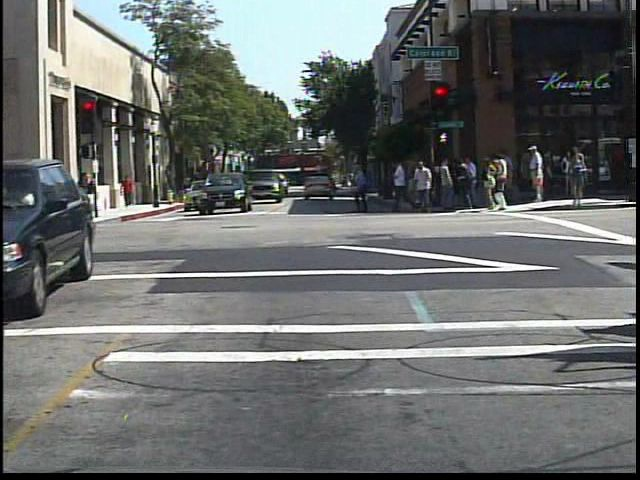person: (34, 170, 59, 232), (526, 146, 551, 207), (0, 172, 22, 226), (121, 173, 138, 209)
